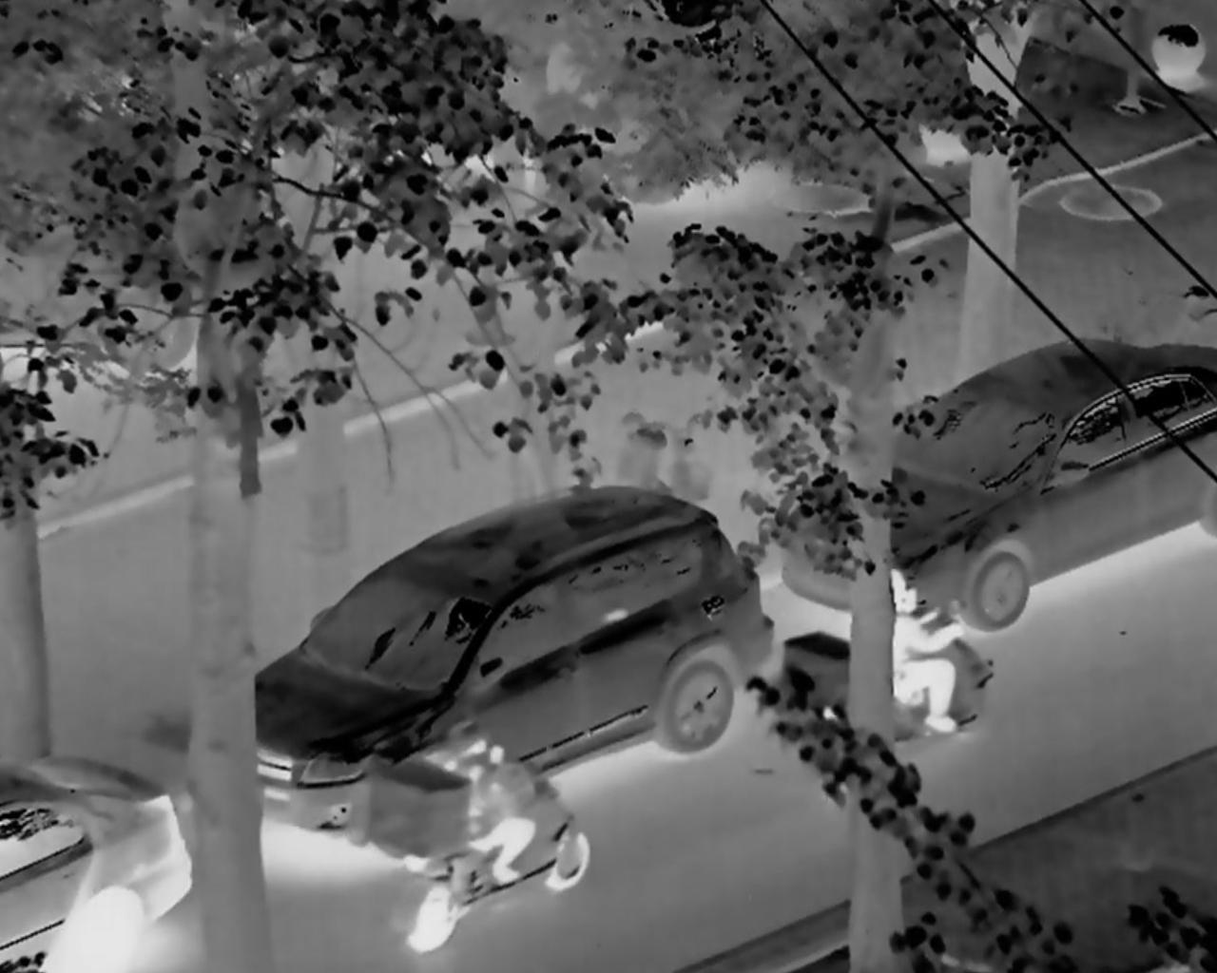person: (358, 701, 595, 944), (827, 546, 991, 782)
